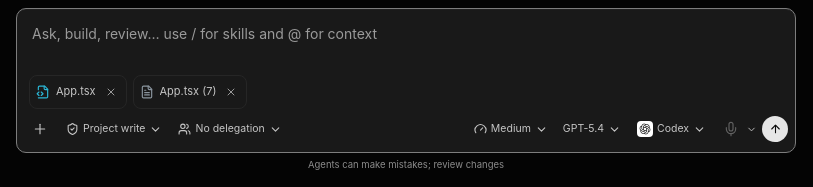
Test: selection context cards › removes a selection card without touching a whole-file card for the same path
expect the text "App.tsx (7)" is shown: met, box [160,84,216,100]
expect the text "App.tsx" is shown: met, box [56,84,96,100]
Click the button named "Remove App.tsx (7)".
click(231, 92)  # box [222,83,240,101]
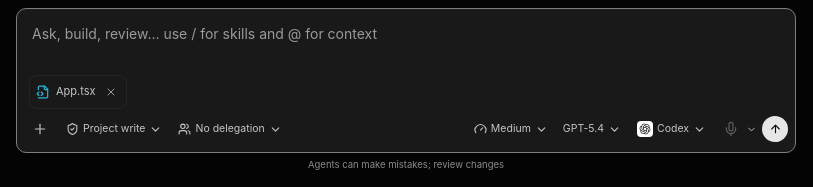
expect the text "App.tsx" is shown: met, box [56,84,96,100]
expect the text "App.tsx (7)" is gone: met
